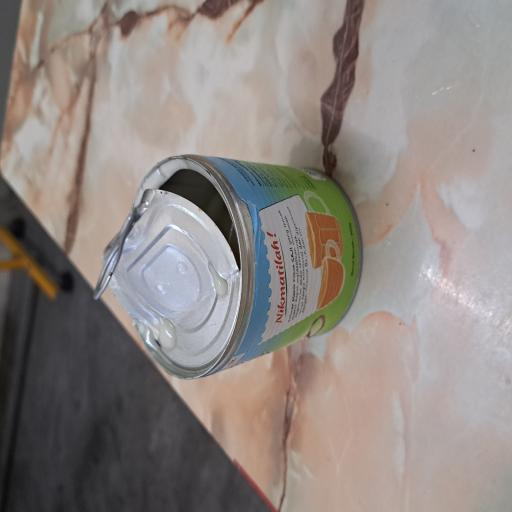can: (99, 123, 268, 483)
pop tab: (160, 123, 229, 189)
